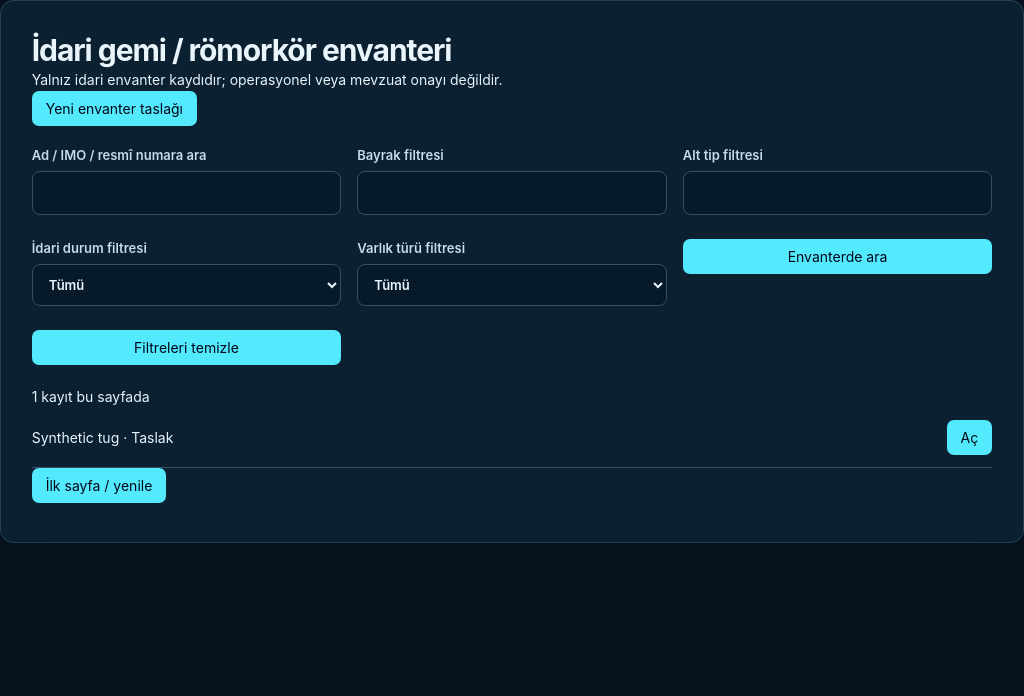
it: administrative inventory UI › does not invent mode/IMO for a new draft and reloads after confirmed write
Click the button "Yeni envanter taslağı" at (114, 108), box [32, 91, 197, 126]
(page scrolled)
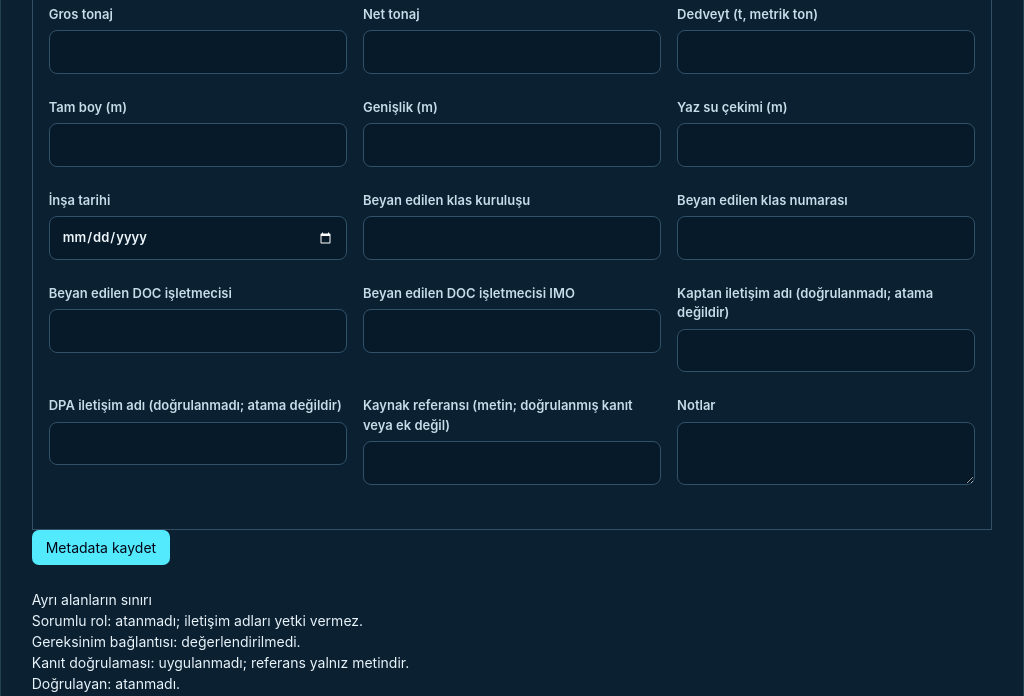
Click the button "Metadata kaydet" at (101, 547), box [32, 530, 170, 565]
(page scrolled)
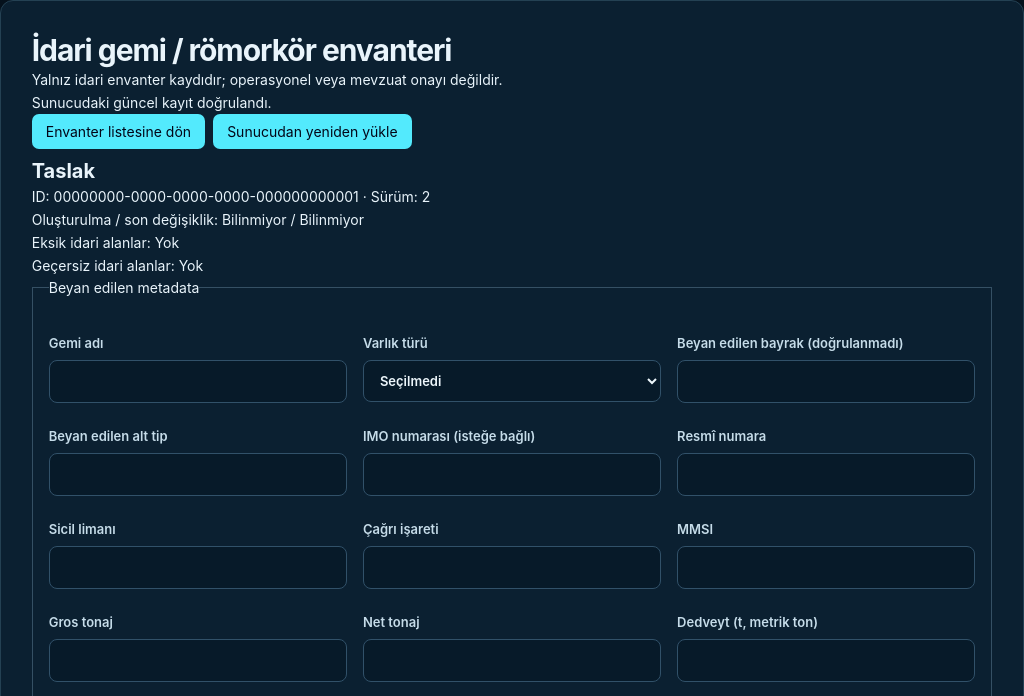
Now the text "Sunucudaki güncel kayıt doğrulandı." is shown, box [32, 94, 272, 111]
